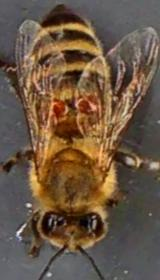varroa_mite: (70, 86, 100, 114), (44, 92, 68, 118)
